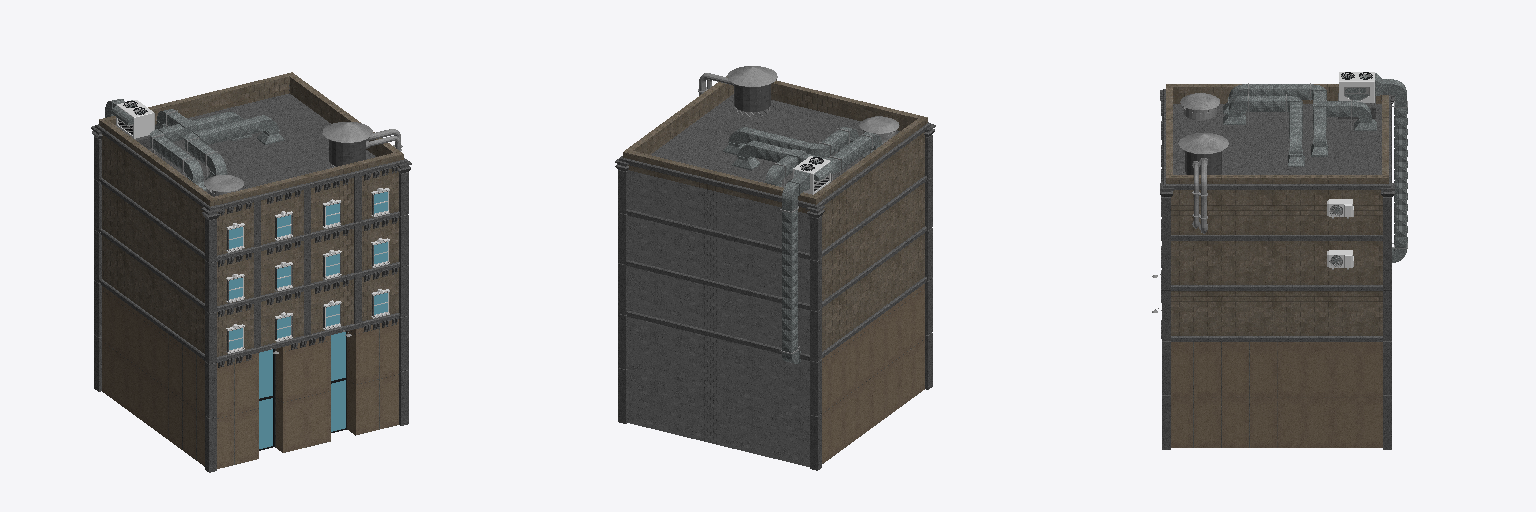
3 views of the same model, side by side, from view 1: azimuth 30°, elevation 25°; view 2: azimuth 150°, elevation 25°; view 3: azimuth 270°, elevation 25° (orthographic).
Visible parts, largest first — view 1: Building_Small_DownTown5_Building_Small_DownTown5_Mesh; view 2: Building_Small_DownTown5_Building_Small_DownTown5_Mesh; view 3: Building_Small_DownTown5_Building_Small_DownTown5_Mesh.
Part boxes in pixels (x1,y1,x2,y2): Building_Small_DownTown5_Building_Small_DownTown5_Mesh: (91,72,411,472); Building_Small_DownTown5_Building_Small_DownTown5_Mesh: (615,66,935,470); Building_Small_DownTown5_Building_Small_DownTown5_Mesh: (1152,72,1407,449).
Bounding box in the file's own units: 13.39 × 17.56 × 13.76.
Materials: 11 (9 with a texture image).